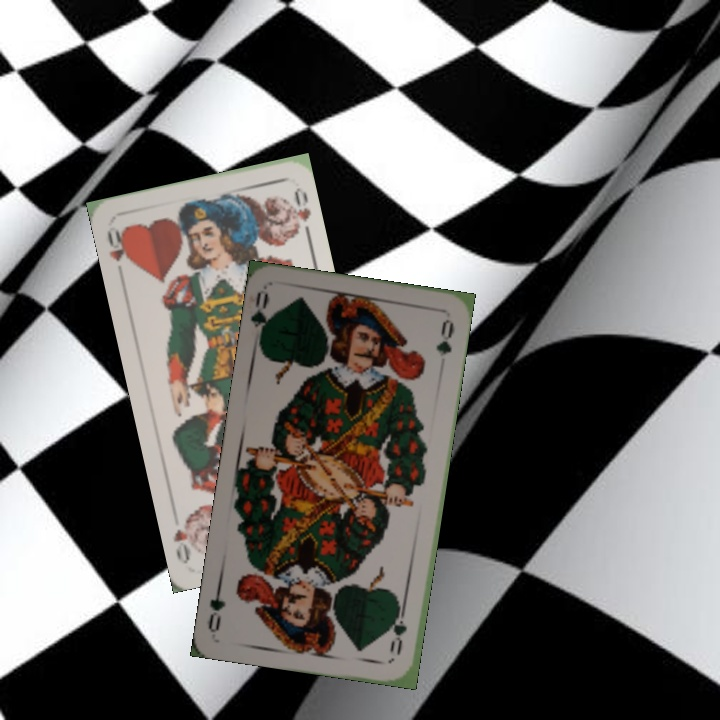GO: (247, 287, 276, 346), (386, 601, 410, 658)
HO: (103, 222, 134, 281)
